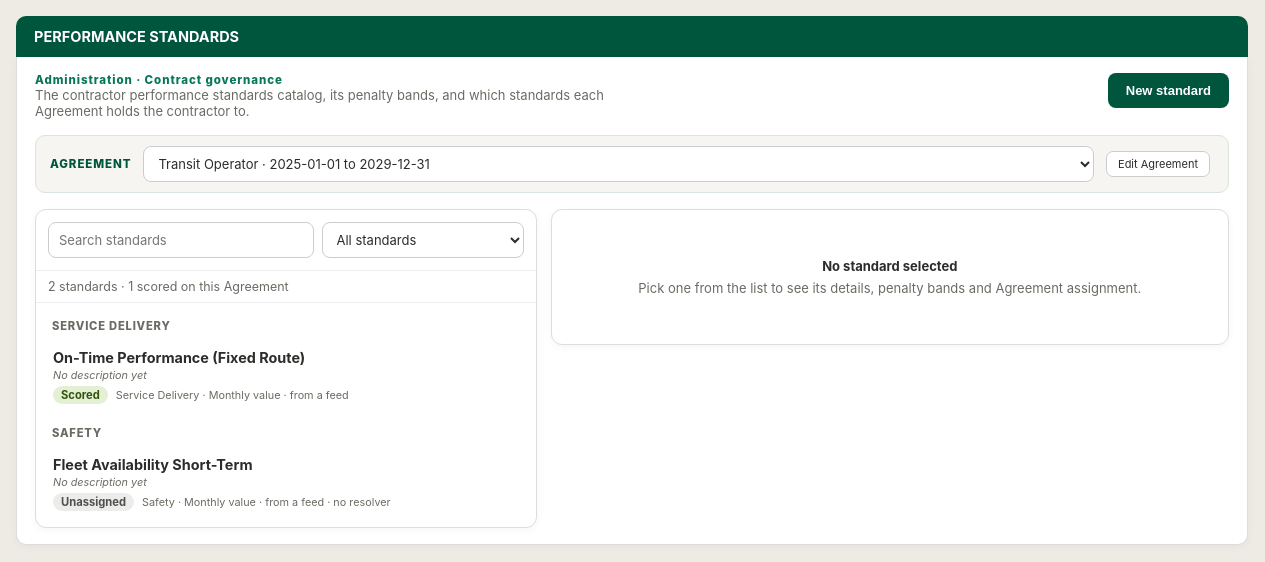
Test case: Performance Standards administration › filters the catalog to one category
The width and height of the screenshot is (1265, 562).
Expected: the text "On-Time Performance (Fixed Route)" is shown, [53, 349, 305, 366]
Select "Safety" in the dropdown named "Filter standards" at (422, 240), box [322, 222, 524, 258]
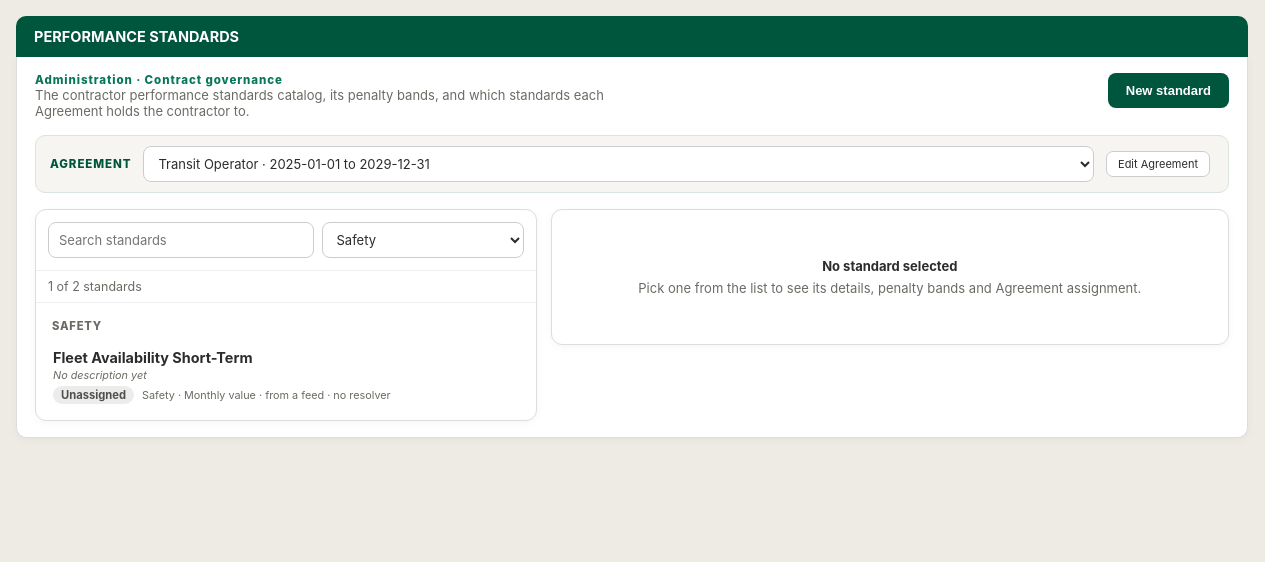
Expected: the text "Fleet Availability Short-Term" is shown, [53, 349, 252, 366]
Now the button "On-Time Performance (Fixed Route)" is gone
